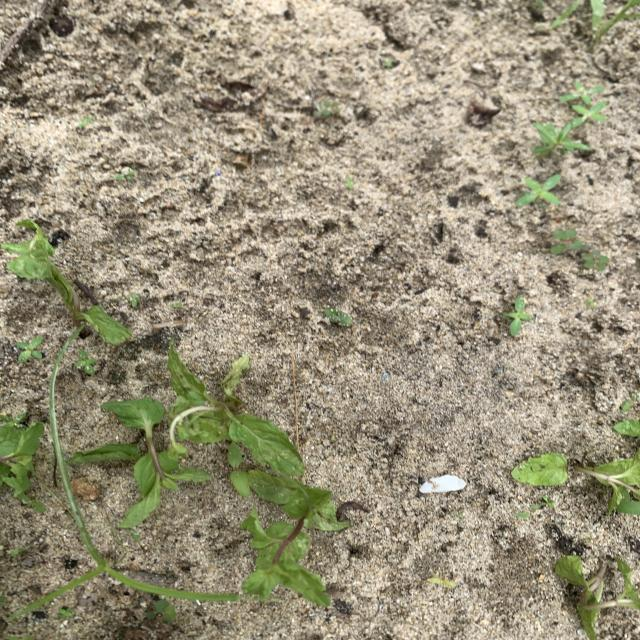crop: (168, 345, 305, 477), (73, 398, 209, 528), (1, 219, 131, 344), (241, 471, 349, 606), (511, 450, 640, 515), (555, 555, 640, 640), (0, 420, 45, 512), (614, 420, 640, 438)
weed: (13, 332, 242, 617), (580, 0, 640, 51), (533, 123, 594, 159), (534, 0, 581, 34), (516, 174, 561, 206), (503, 296, 531, 337), (559, 83, 605, 104), (313, 100, 354, 123), (144, 597, 177, 625), (517, 496, 554, 518), (551, 229, 582, 255), (572, 102, 607, 124), (16, 336, 43, 363), (73, 349, 98, 376), (581, 250, 609, 271), (427, 575, 456, 589), (380, 55, 400, 71), (115, 168, 136, 183), (126, 294, 144, 307), (77, 117, 93, 130), (59, 608, 75, 620), (126, 532, 143, 542), (345, 175, 354, 191), (166, 298, 182, 307), (10, 546, 22, 557), (150, 533, 152, 540)
